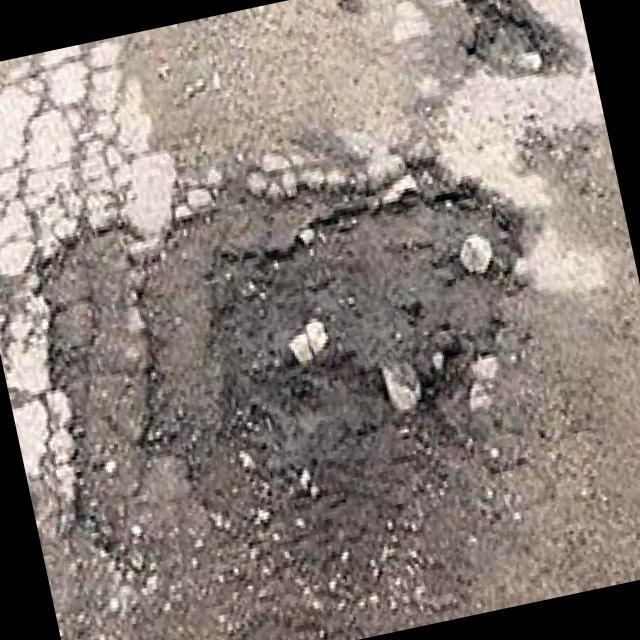Pothole: (0, 118, 602, 630), (445, 0, 592, 103)
